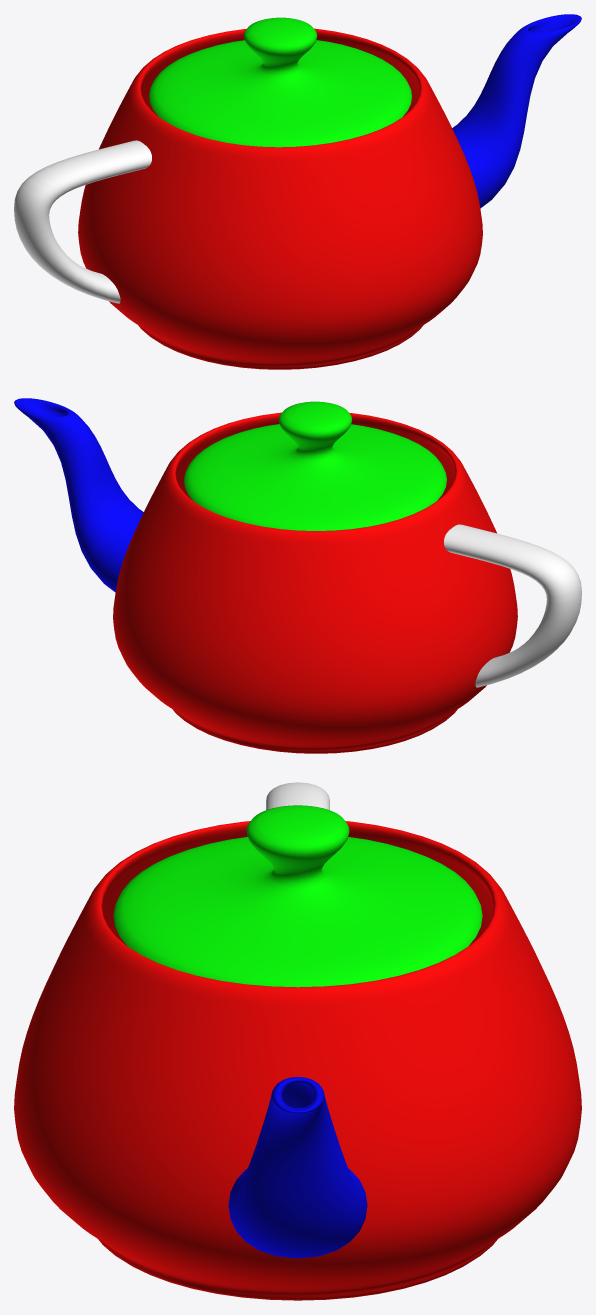
Rendered from teapot.fbx.
3 renders of one model, top to bottom at view 1: azimuth 30°, elevation 25°; view 2: azimuth 150°, elevation 25°; view 3: azimuth 270°, elevation 25°, orthographic. The views are drawn at different scales.
Parts seen in each view (by area): view 1: Teapot001; view 2: Teapot001; view 3: Teapot001.
Part boxes in pixels (x1,y1,x2,y2): Teapot001: (14, 14, 581, 369); Teapot001: (14, 398, 581, 753); Teapot001: (14, 782, 581, 1300).
Bounding box in the file's own units: 64.34 × 31.5 × 40.
